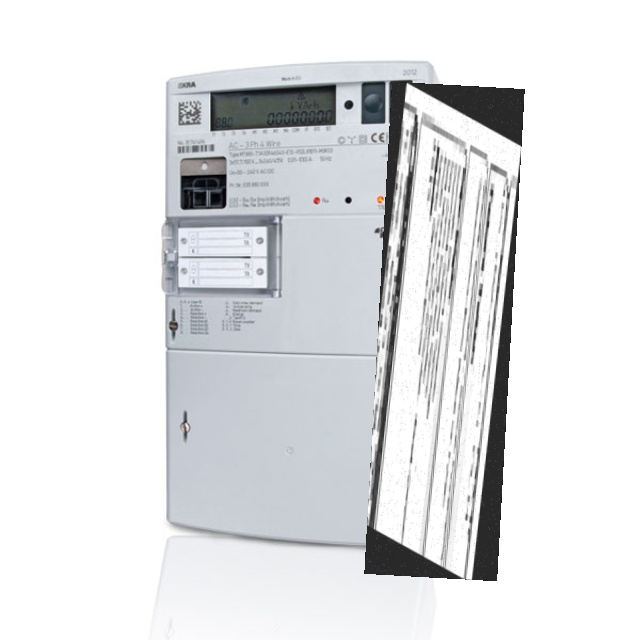electricity-bill: (363, 82, 525, 581)
